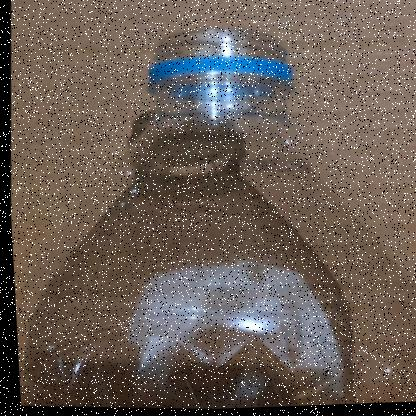open bottle: (4, 1, 416, 341)
